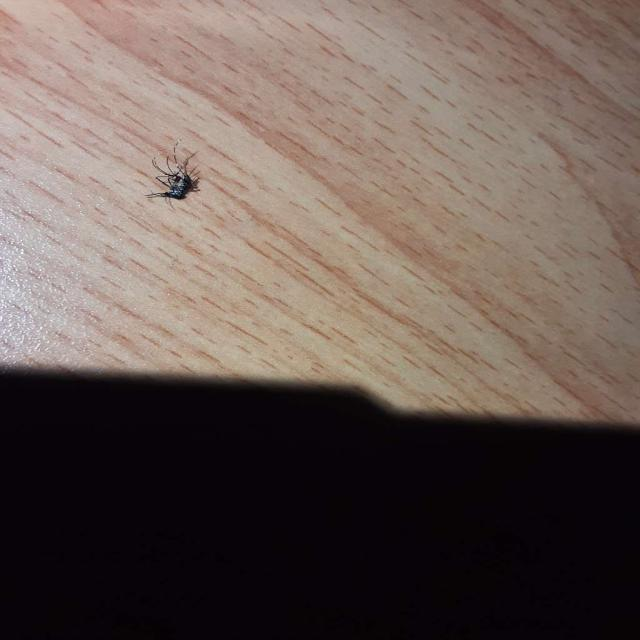albopictus: (138, 138, 212, 216)
